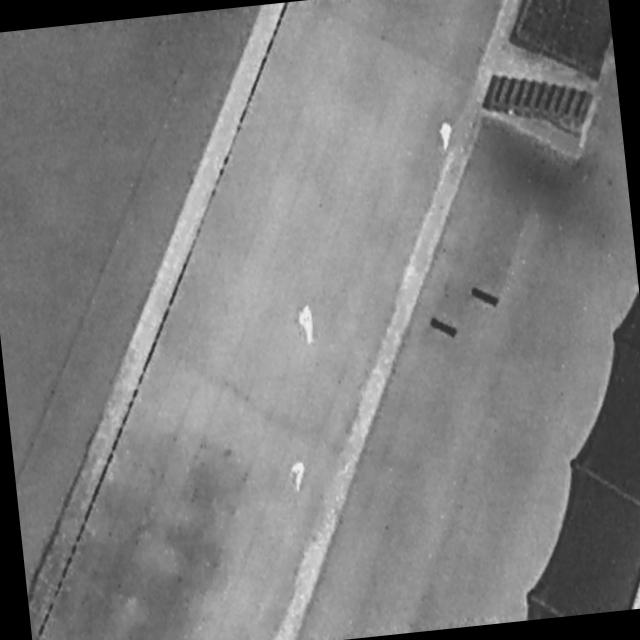person: (287, 459, 310, 498), (298, 305, 318, 349), (438, 118, 455, 152)
